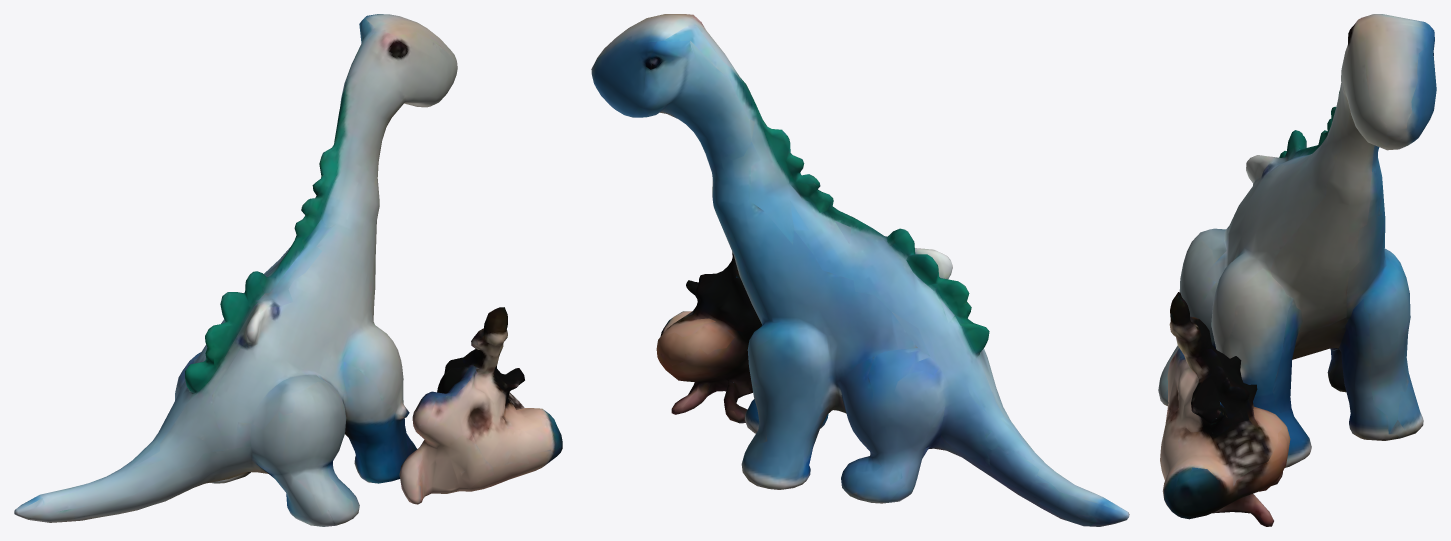
The model's file is brachi.glb.
3 views of the same model, side by side, from view 1: azimuth 30°, elevation 25°; view 2: azimuth 150°, elevation 25°; view 3: azimuth 270°, elevation 25° (orthographic). The views are drawn at different scales.
Parts seen in each view (by area): view 1: Body; view 2: Body; view 3: Body.
Part boxes in pixels (box(x1,y1,x2,y2)): Body: box(14, 14, 562, 526); Body: box(591, 14, 1129, 526); Body: box(1158, 14, 1436, 526).
Size of the model in its own units: 0.3686 by 0.3 by 0.1579.
1 material, 1 textured.
